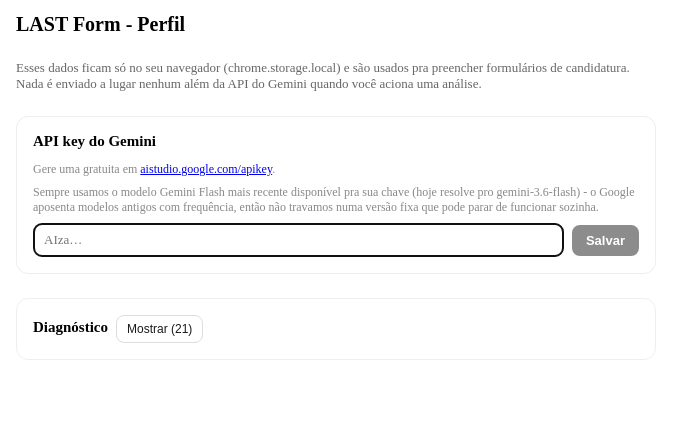
Test: OptionsApp - fluxo da API key › só passa pro modo travado depois que Verificar e Salvar funcionam de verdade, e libera o Currículo
Type "uma-chave-falsa-mas-com-tamanho-suficiente" into the password field with placeholder "AIza…".
click(298, 240); type("uma-chave-falsa-mas-com-tamanho-suficiente")  # box [33, 223, 564, 257]
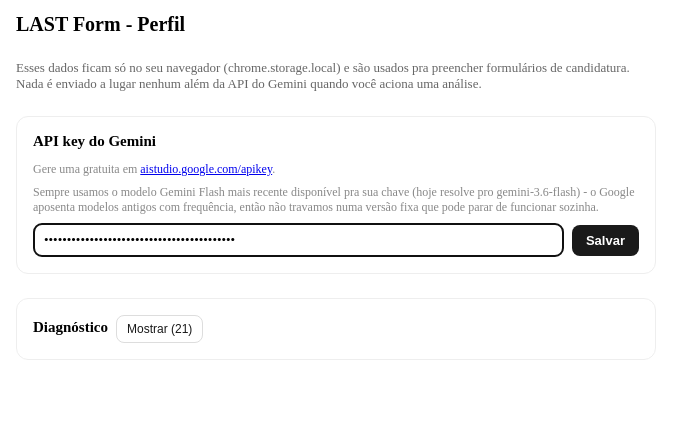
Click the button "Salvar".
click(606, 240)  # box [572, 224, 639, 256]
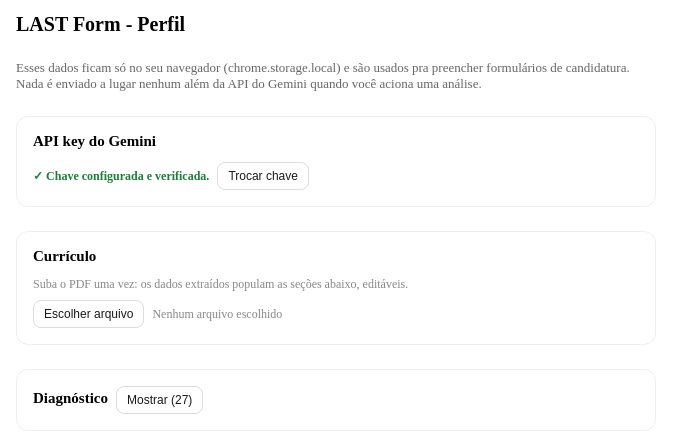
Result: the text "✓ Chave configurada e verificada." is shown at [33, 168, 209, 184]
Result: the password field with placeholder "AIza…" is gone
Result: the heading "Currículo" is shown at [33, 248, 96, 264]
